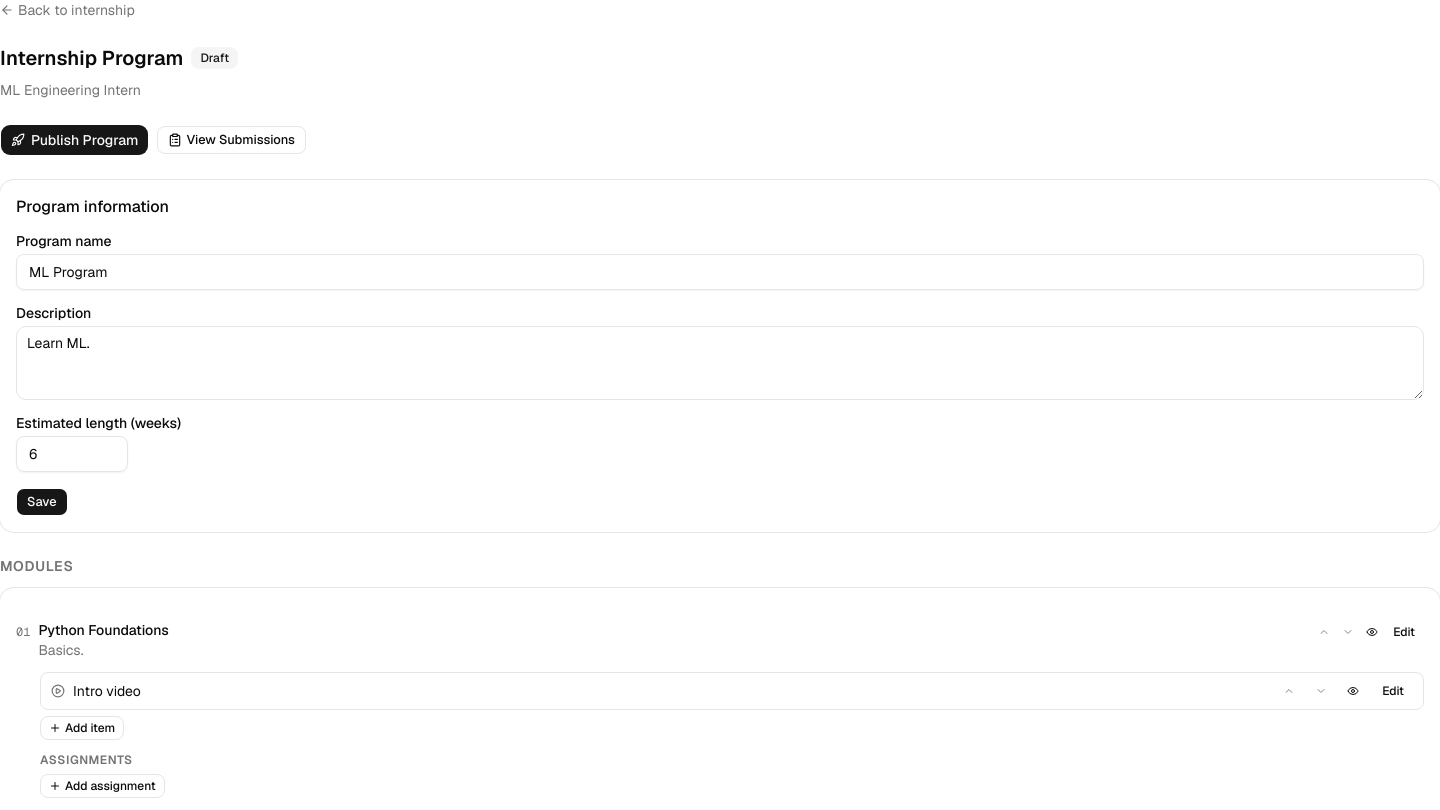
Test: InternshipProgramView › publishes the program after confirmation
Click the button "Publish Program" at (75, 140), box [0,124,150,156]
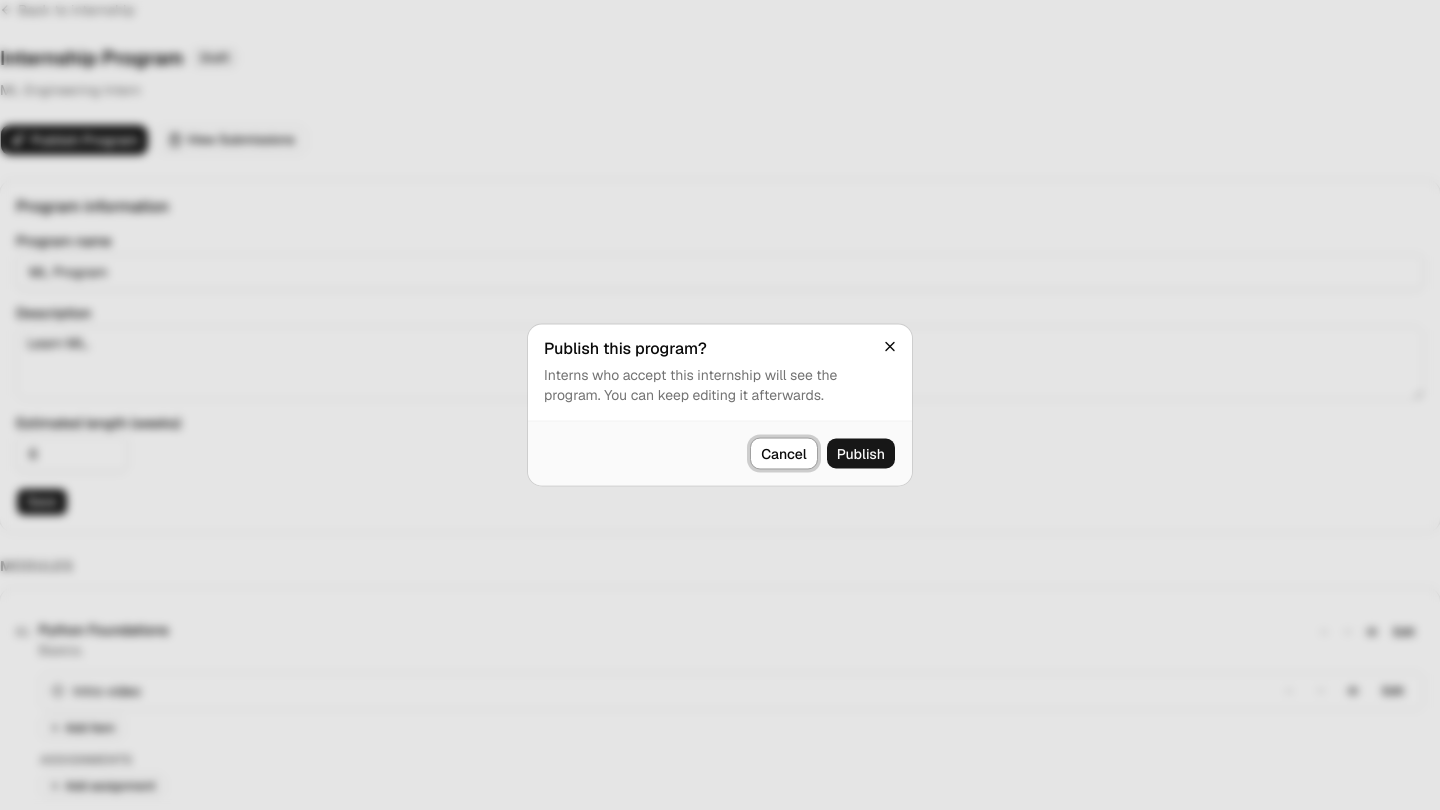
Click the button "Publish" at (861, 454), box [826,438,896,470]
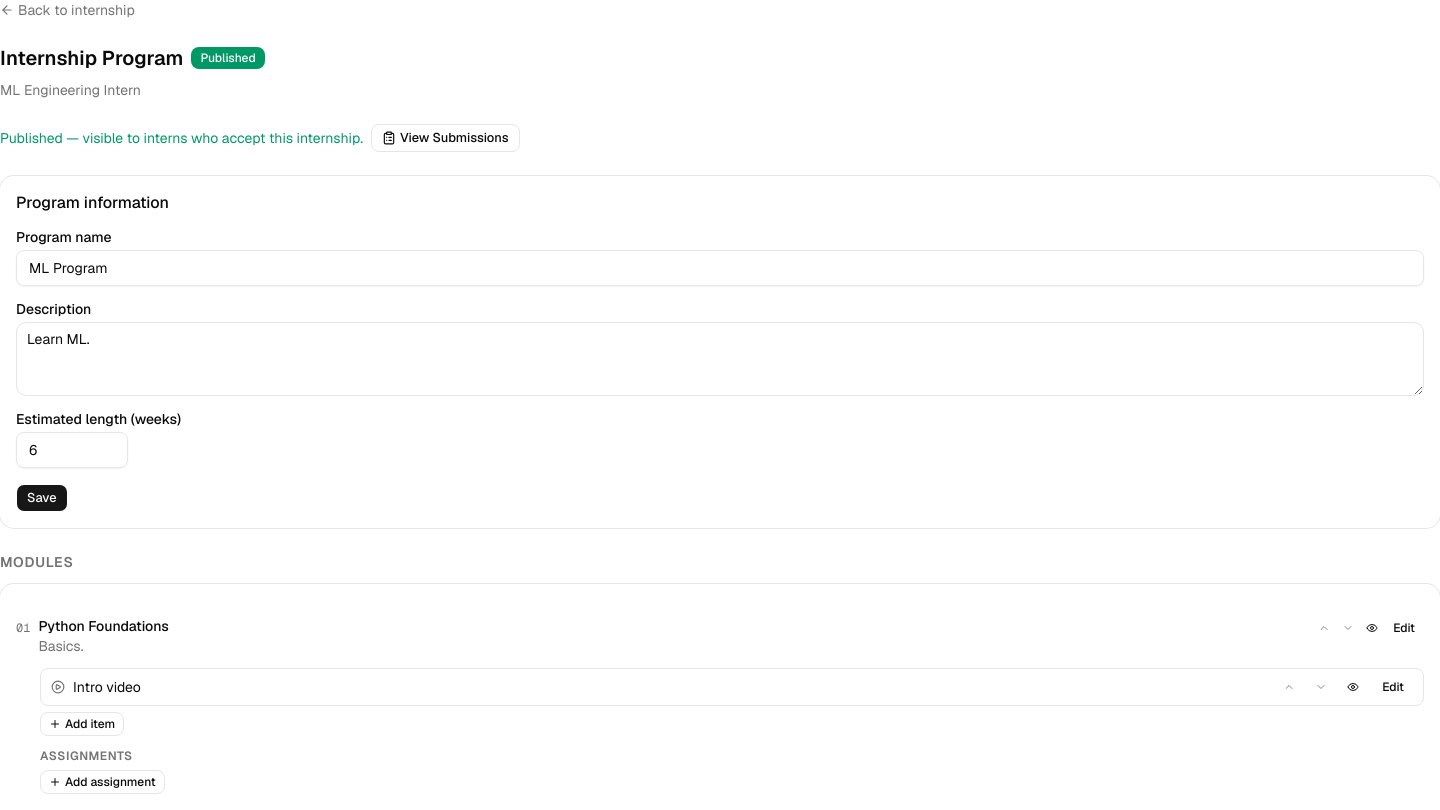
Now the text "Published — visible to interns who accept this internship." is shown, box [0,128,363,148]
